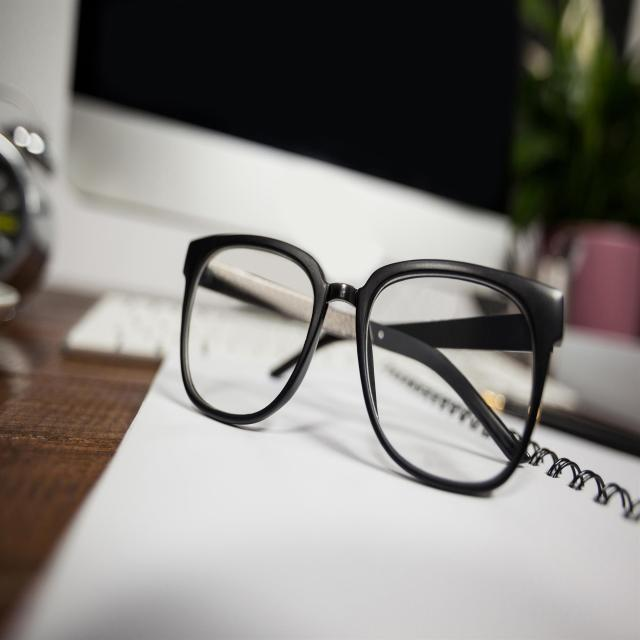glasses: (182, 234, 566, 495)
